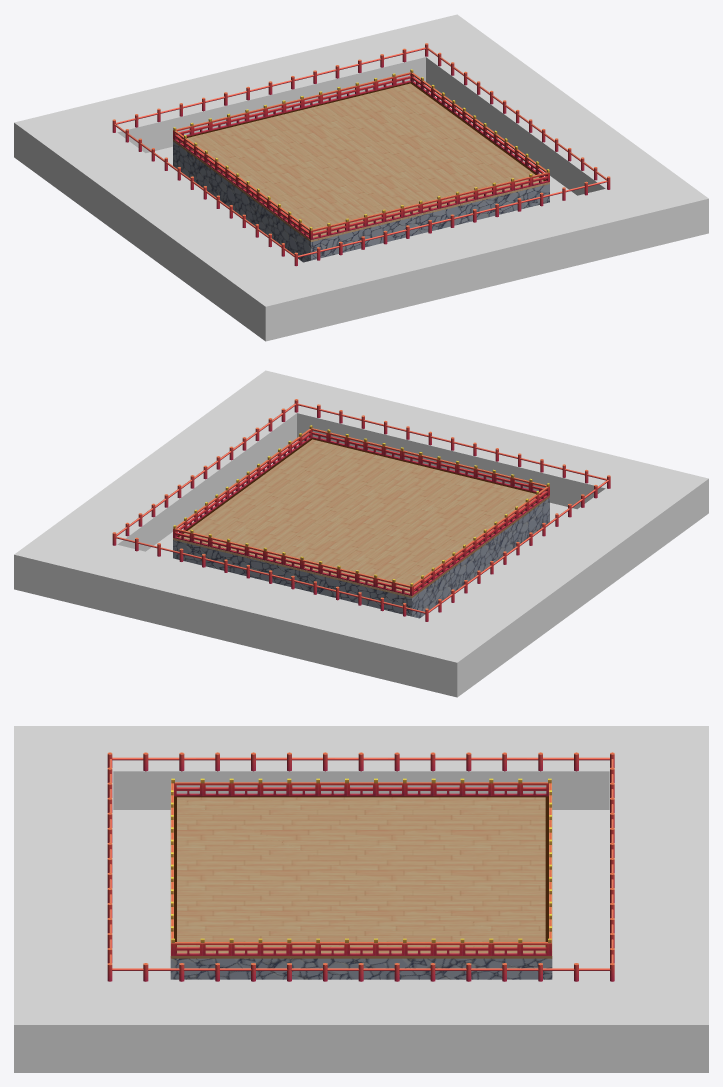
File: Battle_Stage 26.fbx
The picture shows the model from 3 angles, top to bottom: view 1: azimuth 30°, elevation 25°; view 2: azimuth 150°, elevation 25°; view 3: azimuth 270°, elevation 25°; orthographic projection. The views are drawn at different scales.
Visible parts, largest first — view 1: Plane_1.007, Platform_Cube, Cube.090, Cube.091, Plane_1.003; view 2: Plane_1.007, Platform_Cube, Cube.090, Cube.091, Plane_1.003; view 3: Plane_1.007, Platform_Cube, Cube.090, Cube.091, Plane_1.003.
Part boxes in pixels (x1,y1,x2,y2): Plane_1.007: [14, 14, 708, 341]; Platform_Cube: [173, 83, 549, 262]; Cube.090: [173, 69, 549, 239]; Cube.091: [112, 43, 610, 266]; Plane_1.003: [177, 82, 545, 235]; Plane_1.007: [14, 370, 708, 697]; Platform_Cube: [173, 439, 549, 618]; Cube.090: [173, 425, 549, 595]; Cube.091: [112, 399, 610, 621]; Plane_1.003: [177, 438, 545, 591]; Plane_1.007: [14, 726, 708, 1072]; Platform_Cube: [170, 795, 552, 979]; Cube.090: [171, 778, 551, 955]; Cube.091: [107, 752, 614, 981]; Plane_1.003: [174, 796, 548, 952].
Size of the model in its own units: 13344 by 1346 by 13121.
